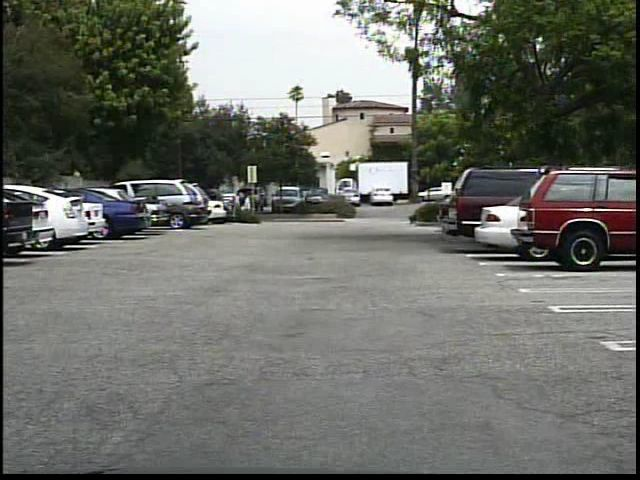person: (227, 188, 242, 221), (241, 192, 258, 220), (239, 188, 250, 219)
